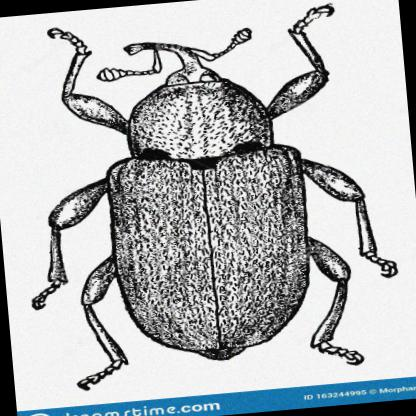ash weevil: (39, 11, 400, 387)
